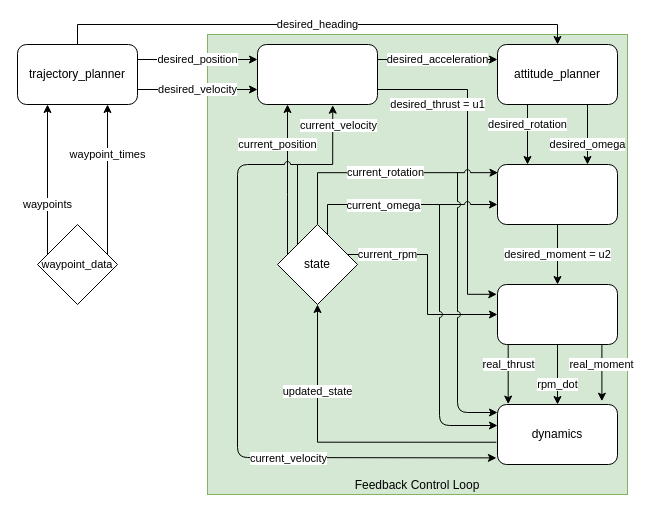
The diagram is 651 pixels wide and 512 high, and some of its shapes have lost their labels. The shapes that lost their labels are listed below. From the top down, each one's centre as x and y in pixels, then its label:
the point at 317,74: position_controller
the point at 557,194: attitude_controller
the point at 557,314: motor_model
